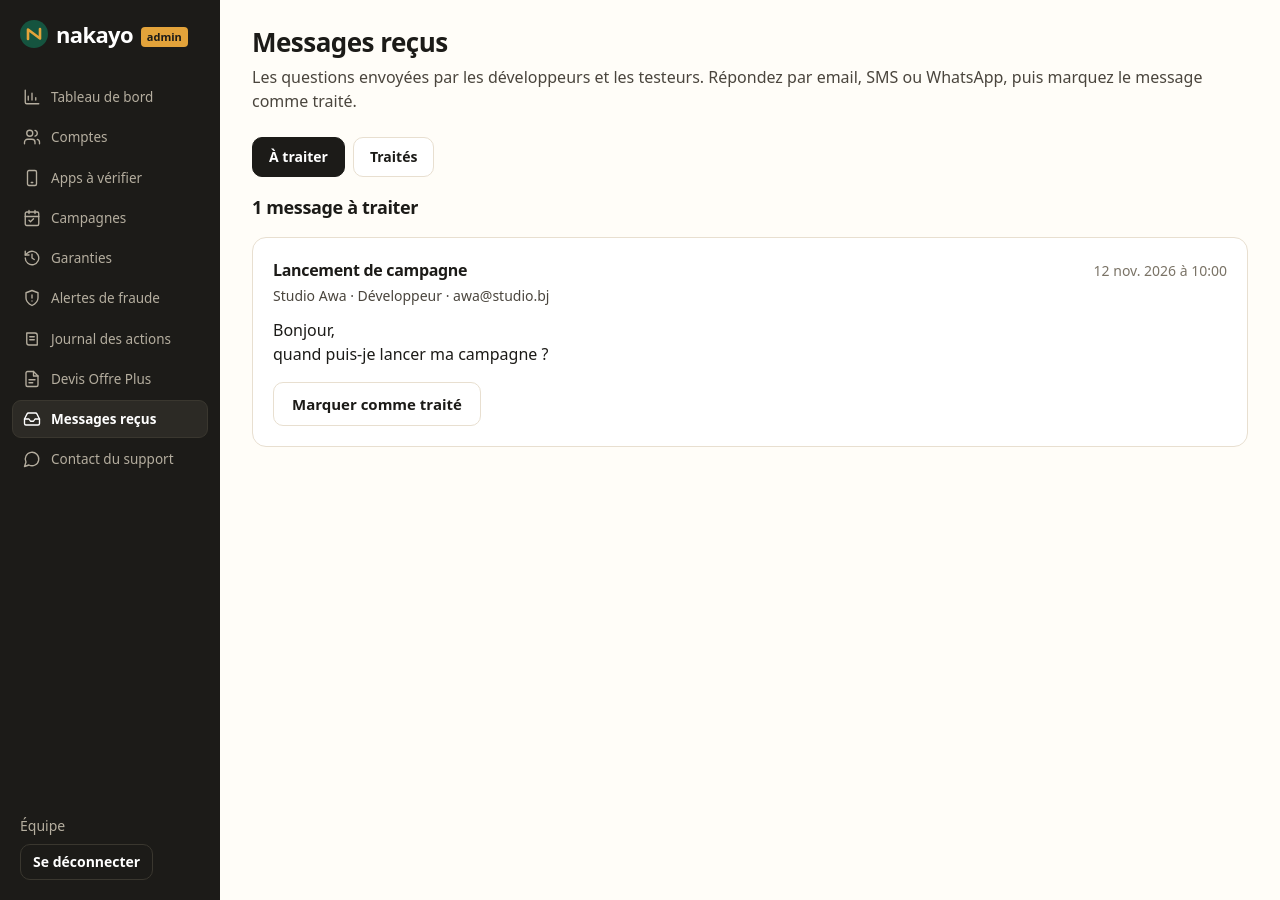
Test: Back-office : messages reçus (US-40) › message déjà traité par un autre admin
The image size is (1280, 900).
Click the button "Marquer comme traité" at (377, 404), box [273,382,481,426]
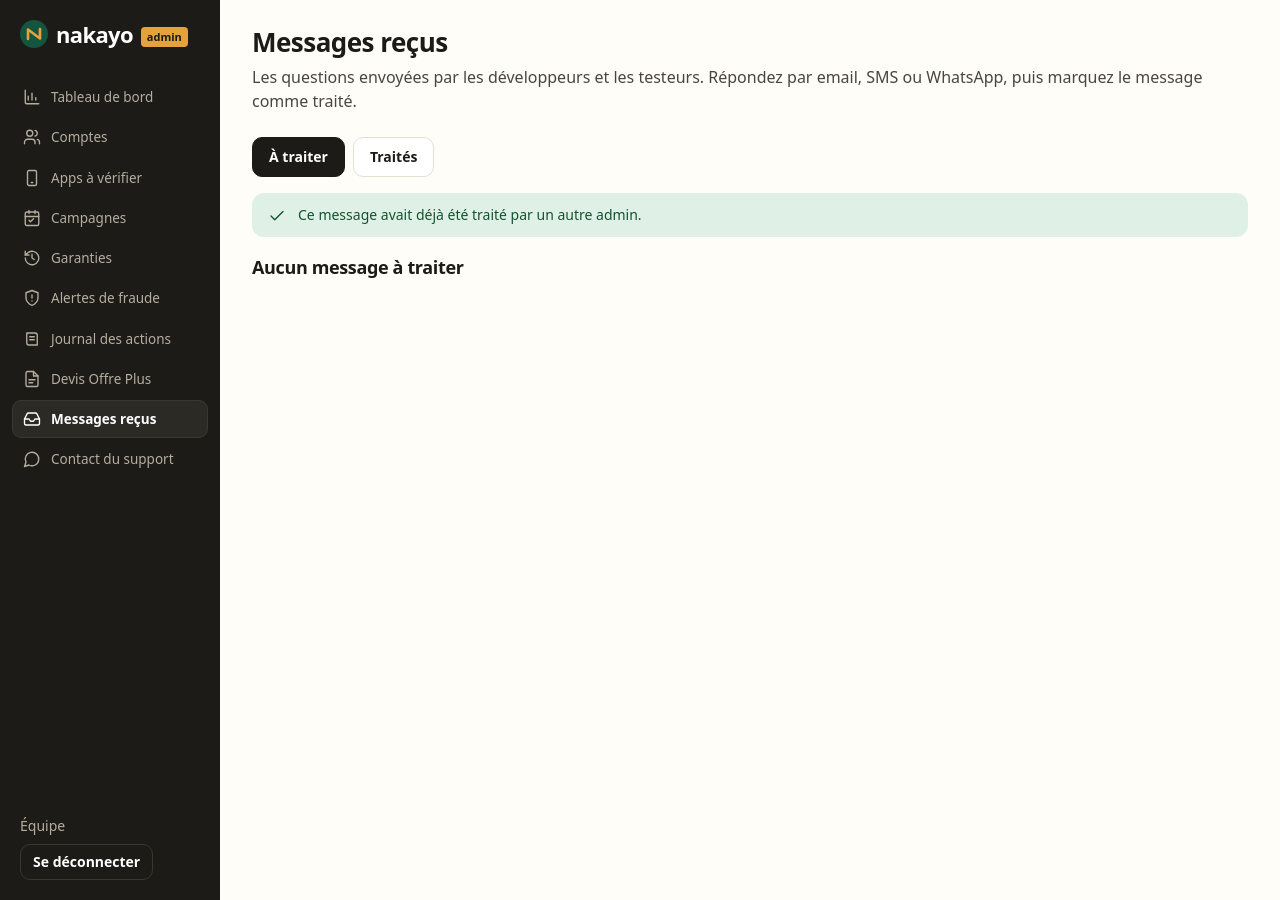
Expected: the text "Ce message avait déjà été traité par un autre admin." is shown, [298,205,642,225]
